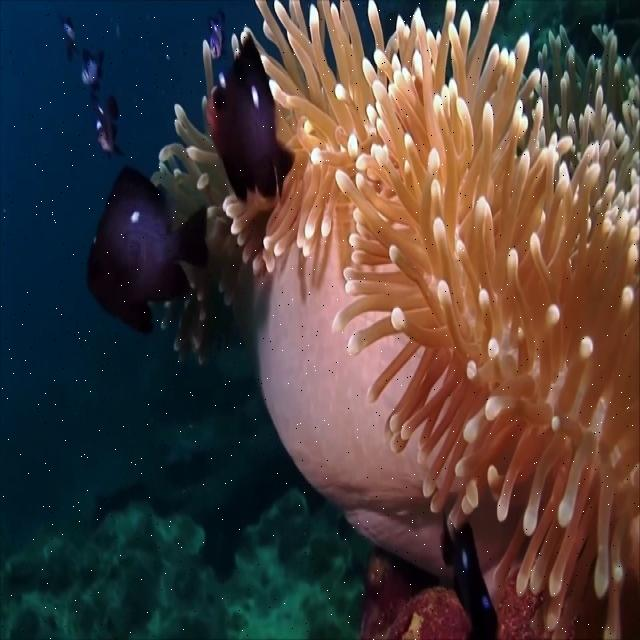fish: (85, 164, 206, 334), (205, 35, 296, 202), (95, 97, 125, 155), (81, 51, 106, 88)
reefs: (223, 0, 639, 639)
